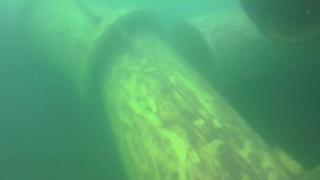pipe: (96, 23, 314, 180), (1, 1, 163, 110), (170, 8, 320, 90), (239, 1, 320, 46)
